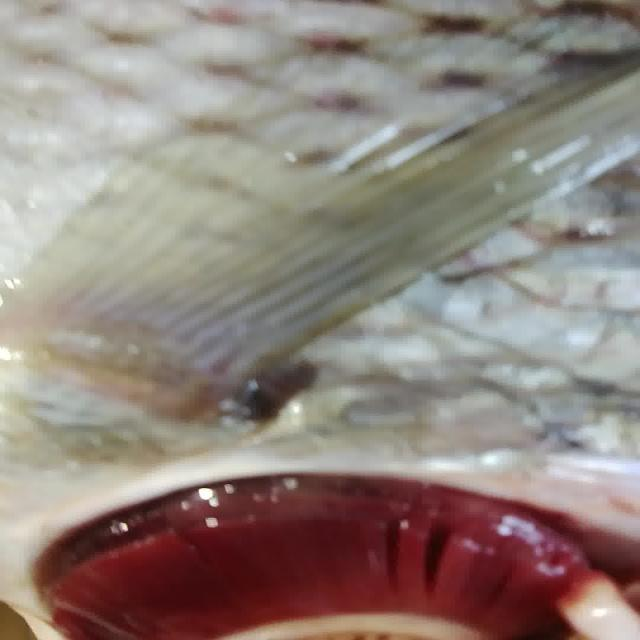Fresh: (21, 464, 622, 640)
